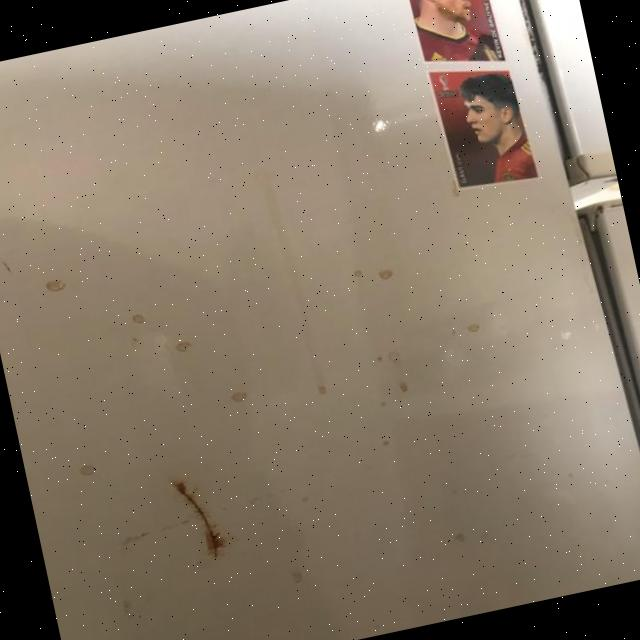Corrosion: (171, 472, 228, 562)
